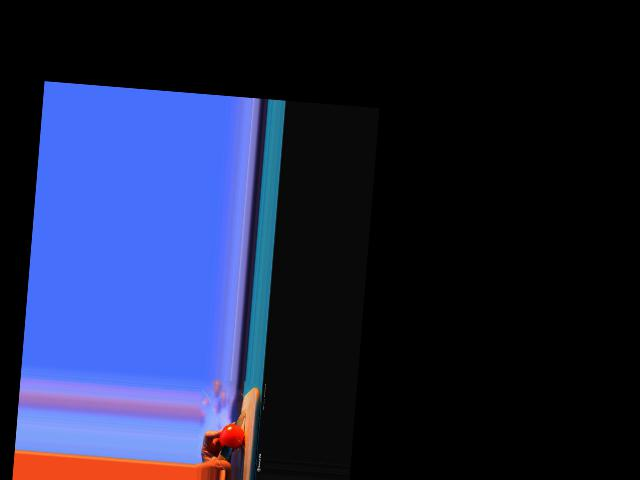tomato: (219, 422, 245, 450)
